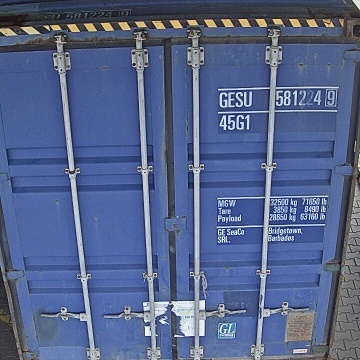serial_id: (219, 90, 337, 107)
